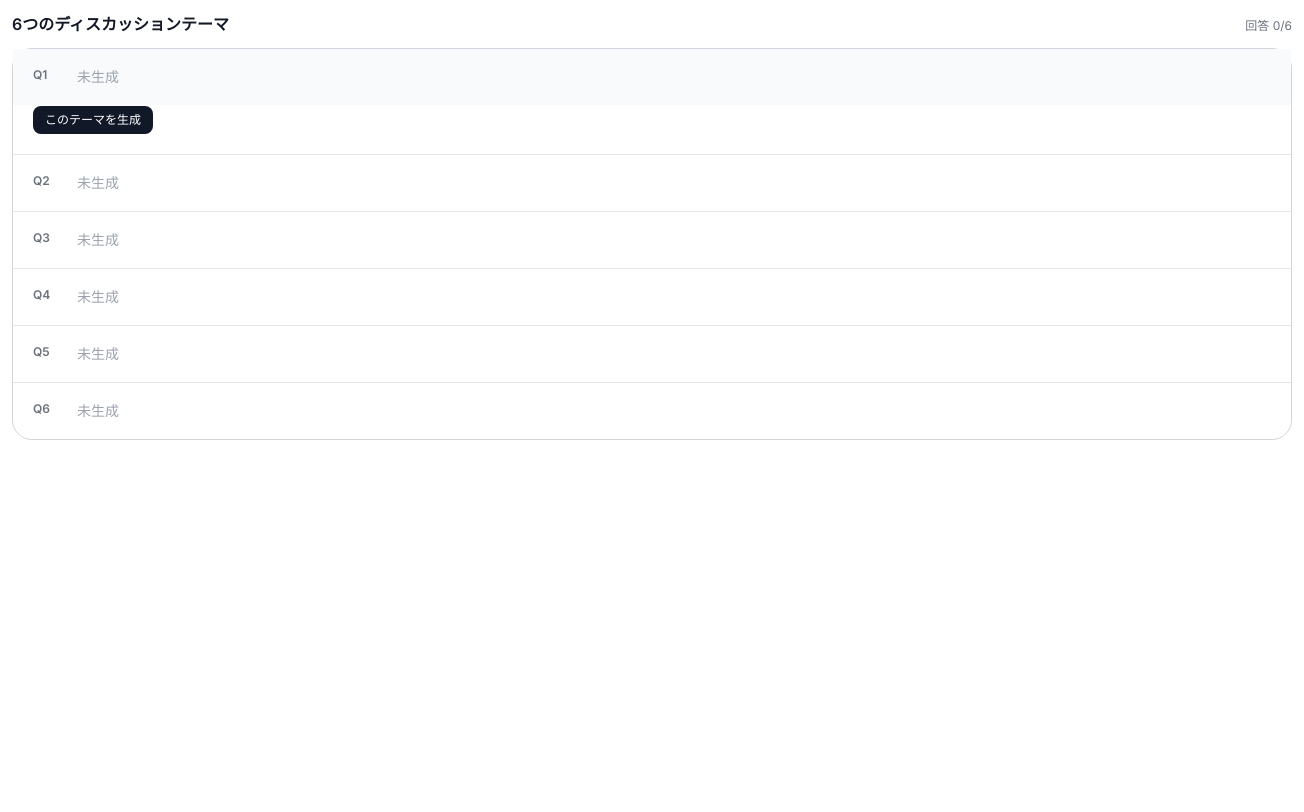
Test: DepartmentQuestionStepper（6つの問い） › 空欄の回答でも次のテーマへ進み、次の問いは1回だけ自動で生成される
Click the button "このテーマを生成". click: [93, 120]
box: [33,106,153,134]
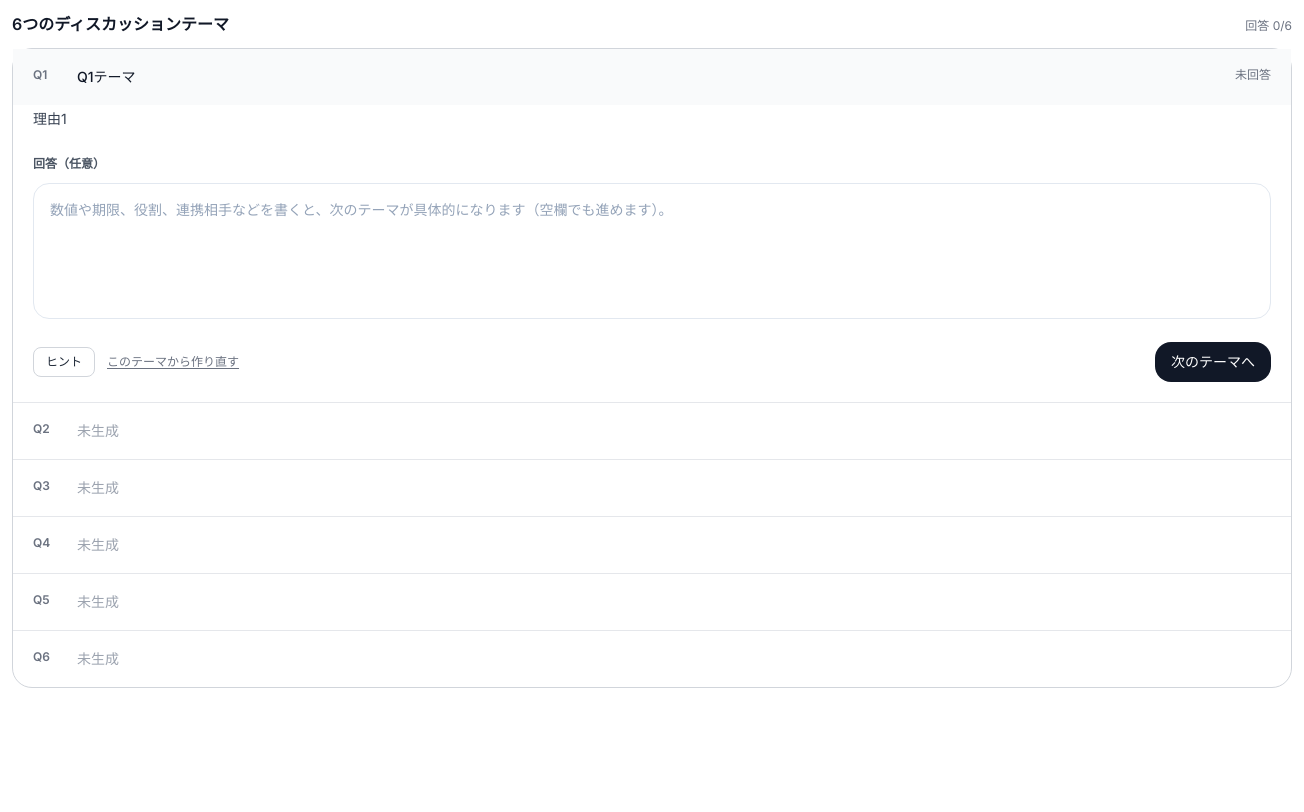
Expected: the text "Q1テーマ" is shown, [77,68,136,85]
Expected: the button "次のテーマへ" is enabled
Click the button "次のテーマへ". click: [1213, 362]
box: [1155,342,1271,382]
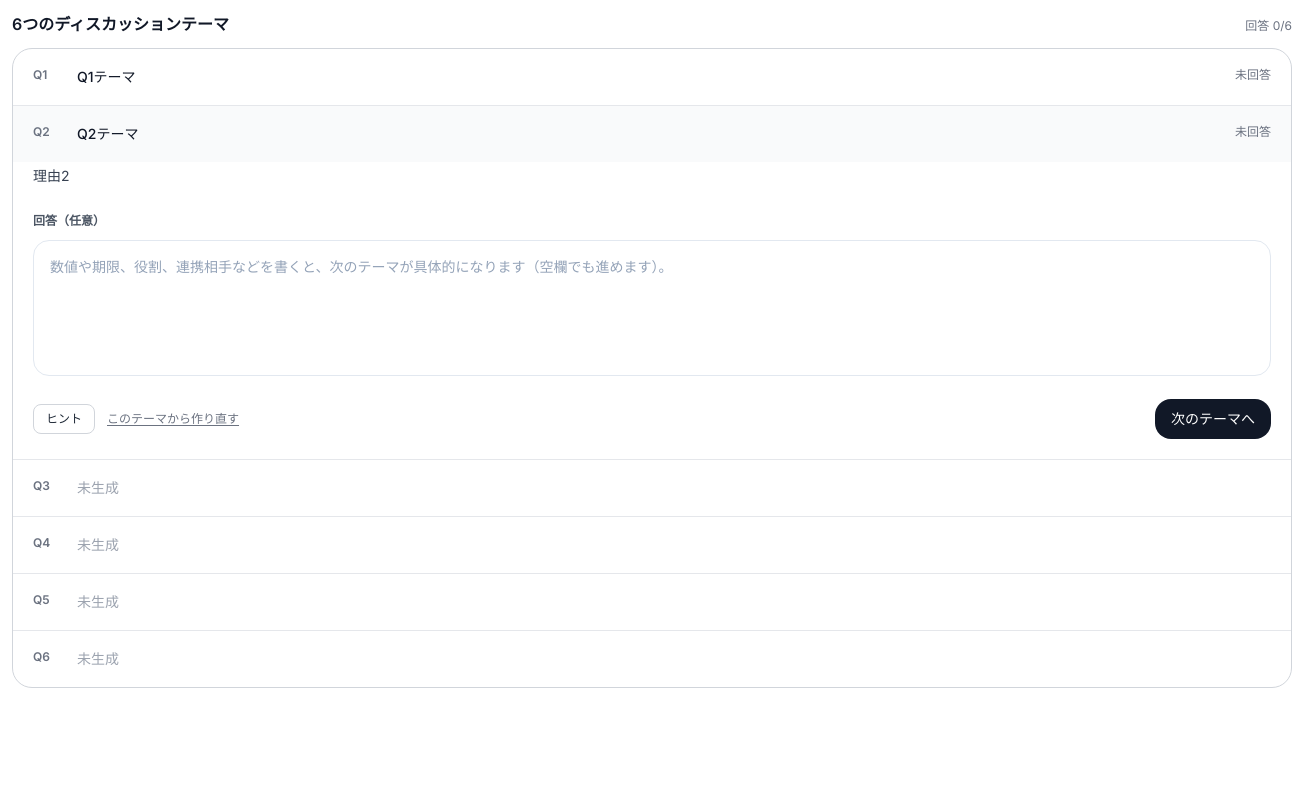
Expected: the button "このテーマを生成" is not shown
Expected: the text "Q2テーマ" is shown, [77,125,138,142]
